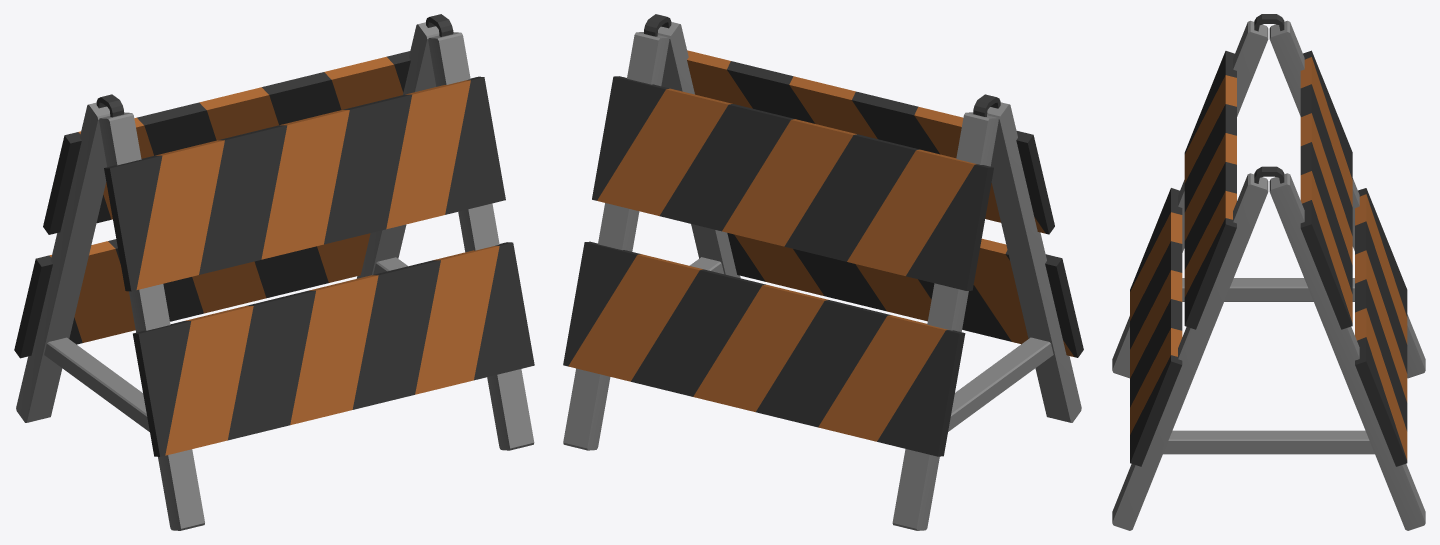
The model's file is props_61.glb.
The picture shows the model from 3 angles, left to right: view 1: azimuth 30°, elevation 25°; view 2: azimuth 150°, elevation 25°; view 3: azimuth 270°, elevation 25°; orthographic projection. The views are drawn at different scales.
Visible parts, largest first — view 1: props_61; view 2: props_61; view 3: props_61.
Part boxes in pixels (left/top/right/bottom): props_61: left=14, top=14, right=534, bottom=530; props_61: left=563, top=14, right=1083, bottom=530; props_61: left=1112, top=14, right=1425, bottom=530.
Size of the model in its own units: 1.24 by 1.18 by 0.9429.
1 material, 1 textured.
